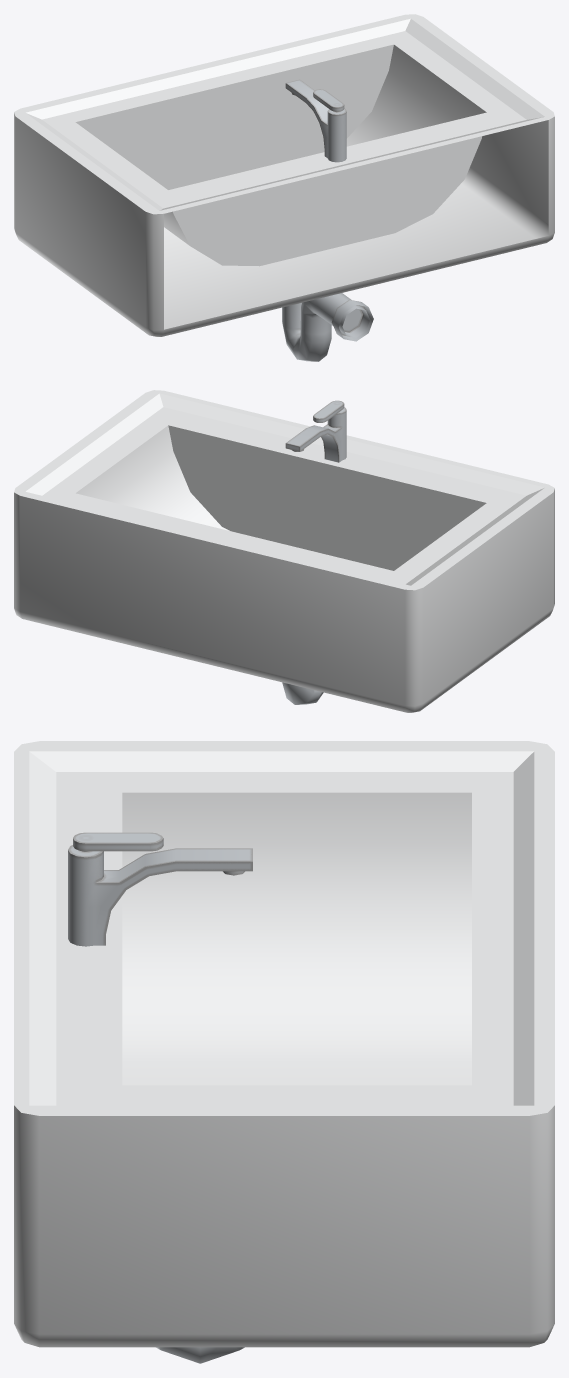
File: Sink_B.fbx
3 renders of one model, top to bottom at view 1: azimuth 30°, elevation 25°; view 2: azimuth 150°, elevation 25°; view 3: azimuth 270°, elevation 25°, orthographic. The views are drawn at different scales.
Visible parts, largest first — view 1: Sink_B; view 2: Sink_B, Sink_B_Faucet; view 3: Sink_B, Sink_B_Faucet.
Part boxes in pixels (bbox=[...]): Sink_B: bbox=[14, 14, 554, 361]; Sink_B: bbox=[14, 390, 554, 712]; Sink_B_Faucet: bbox=[313, 400, 344, 422]; Sink_B: bbox=[14, 741, 554, 1363]; Sink_B_Faucet: bbox=[73, 832, 163, 851].
Size of the model in its own units: 0.5 by 0.305 by 0.3264.
